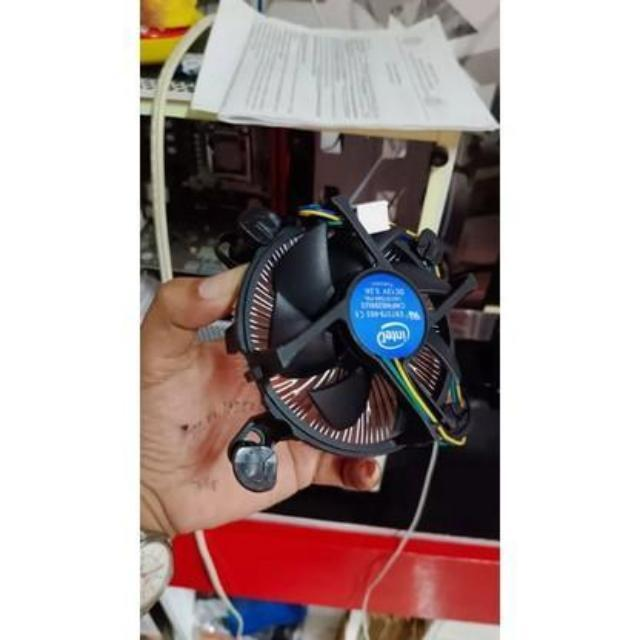CPU_Fan: (212, 192, 478, 480)
